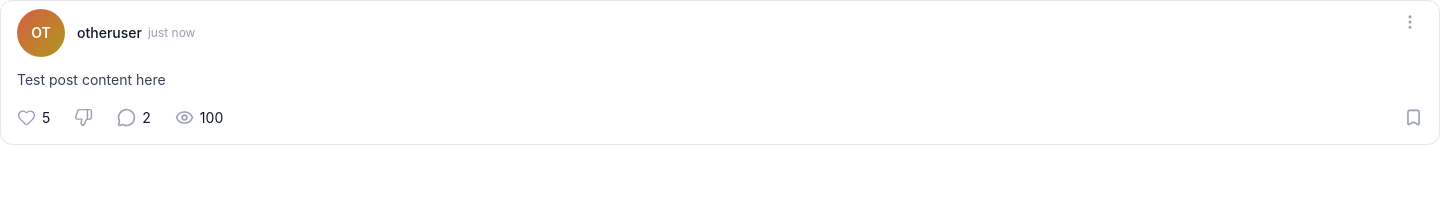
Test: PostCard › shows Unmute when post author is already muted
Click the button named "Post options" at x=1410, y=22, box [1397,9,1423,35]
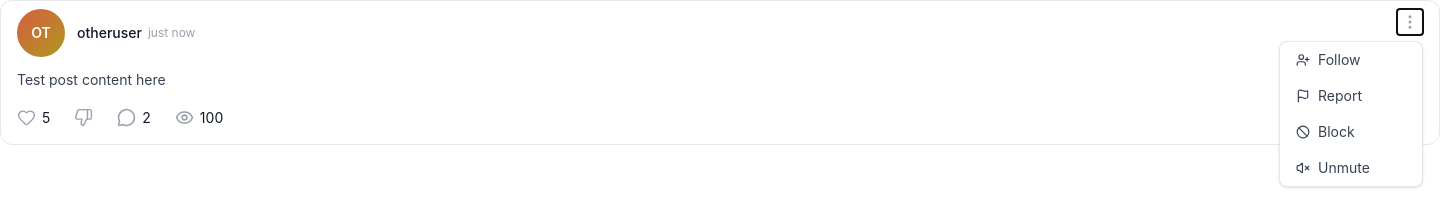
Check: the button "Unmute" is shown, box [1280,150,1422,186]
Check: the button "Block" is shown, box [1280,114,1422,150]
